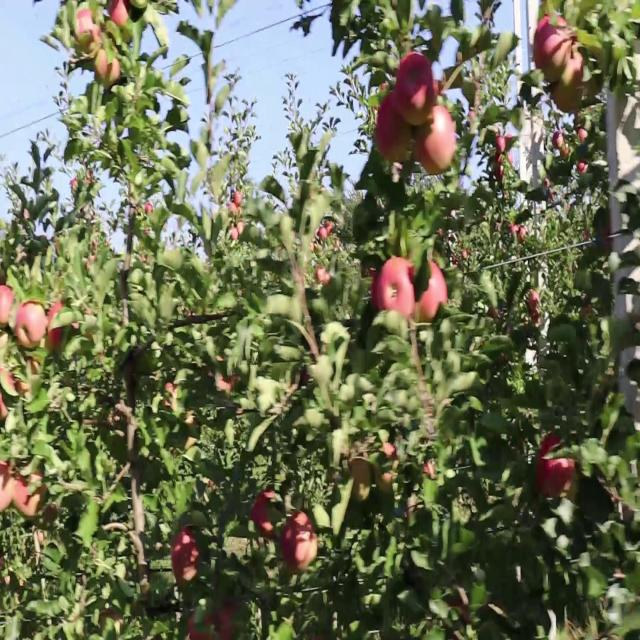apple: (536, 433, 579, 500), (372, 255, 415, 322), (532, 14, 573, 84), (396, 56, 435, 126), (280, 511, 320, 576), (376, 92, 412, 164), (424, 106, 457, 174), (416, 263, 448, 325), (172, 533, 201, 590), (552, 63, 583, 114), (16, 476, 48, 517), (252, 490, 277, 542), (16, 305, 46, 348), (376, 447, 400, 496), (616, 135, 640, 181), (96, 49, 121, 91), (76, 14, 99, 55), (564, 49, 585, 91), (28, 476, 48, 517), (348, 455, 373, 487), (412, 127, 431, 169), (448, 590, 471, 624), (48, 305, 65, 350), (188, 611, 215, 639), (552, 85, 578, 114), (380, 440, 400, 476), (0, 284, 16, 327), (220, 604, 239, 639), (100, 611, 124, 638), (108, 0, 130, 28), (0, 469, 14, 512), (28, 490, 47, 519), (72, 170, 93, 196), (16, 476, 28, 514), (528, 291, 541, 325), (600, 220, 613, 252), (0, 483, 13, 514), (164, 383, 177, 411), (44, 504, 59, 524), (92, 28, 103, 55), (0, 392, 8, 423), (424, 462, 436, 480)
